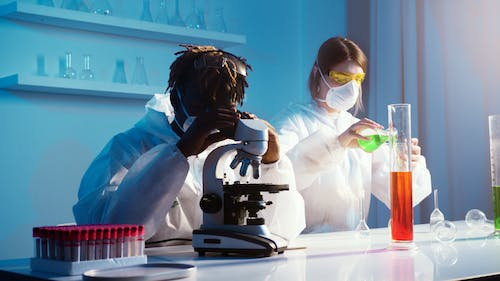blood: (389, 170, 414, 240)
